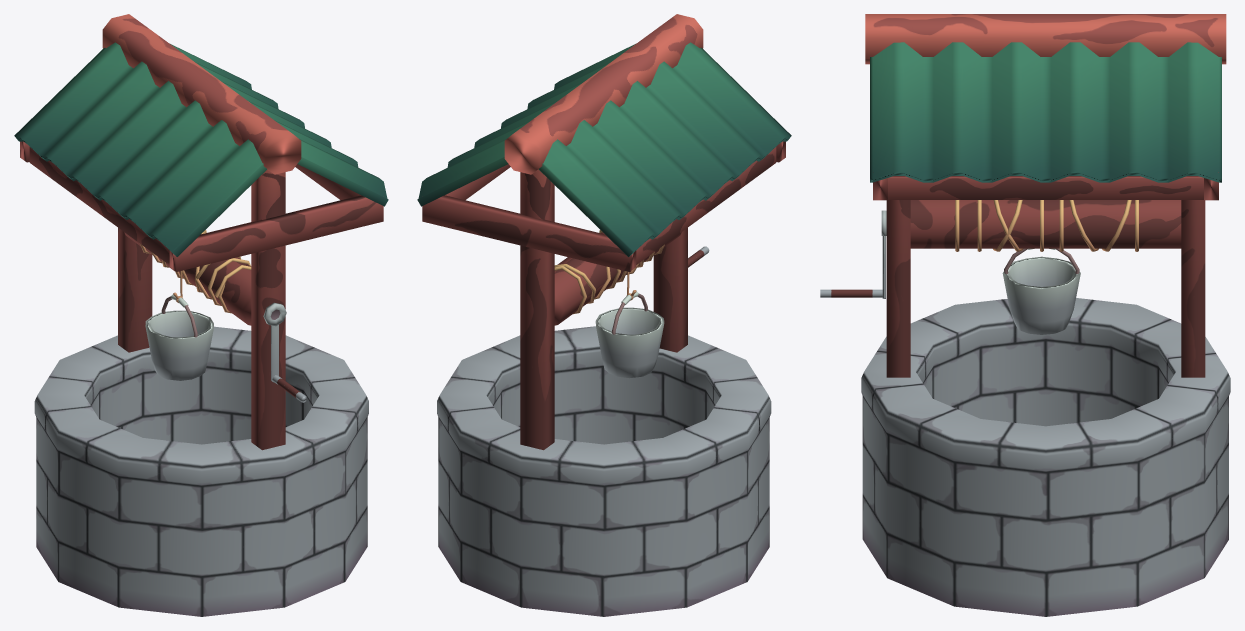
File: WellSmoothed.fbx
3 views of the same model, side by side, from view 1: azimuth 30°, elevation 25°; view 2: azimuth 150°, elevation 25°; view 3: azimuth 270°, elevation 25° (orthographic). The views are drawn at different scales.
Visible parts, largest first — view 1: Wall, Roof, WoodBeams, Bucket, Rope, Handle; view 2: Wall, WoodBeams, Roof, Bucket, Rope; view 3: Wall, Roof, WoodBeams, Bucket, Rope, Handle.
Part boxes in pixels (box(x1,y1,x2,y2)): Wall: box(34, 326, 368, 616); Roof: box(14, 42, 388, 256); WoodBeams: box(20, 14, 383, 450); Bucket: box(145, 294, 213, 380); Rope: box(139, 230, 251, 313); Handle: box(263, 302, 306, 402); Wall: box(437, 326, 771, 616); WoodBeams: box(422, 14, 785, 450); Roof: box(417, 42, 791, 256); Bucket: box(595, 291, 664, 378); Rope: box(554, 230, 664, 314); Wall: box(861, 298, 1230, 616); Roof: box(870, 42, 1221, 182); WoodBeams: box(865, 14, 1226, 377); Bucket: box(1002, 248, 1080, 334); Rope: box(955, 200, 1138, 251); Handle: box(820, 210, 886, 298).
Bounding box in the file's own units: 2.46 × 3.82 × 2.73.
6 materials, 6 textured.
